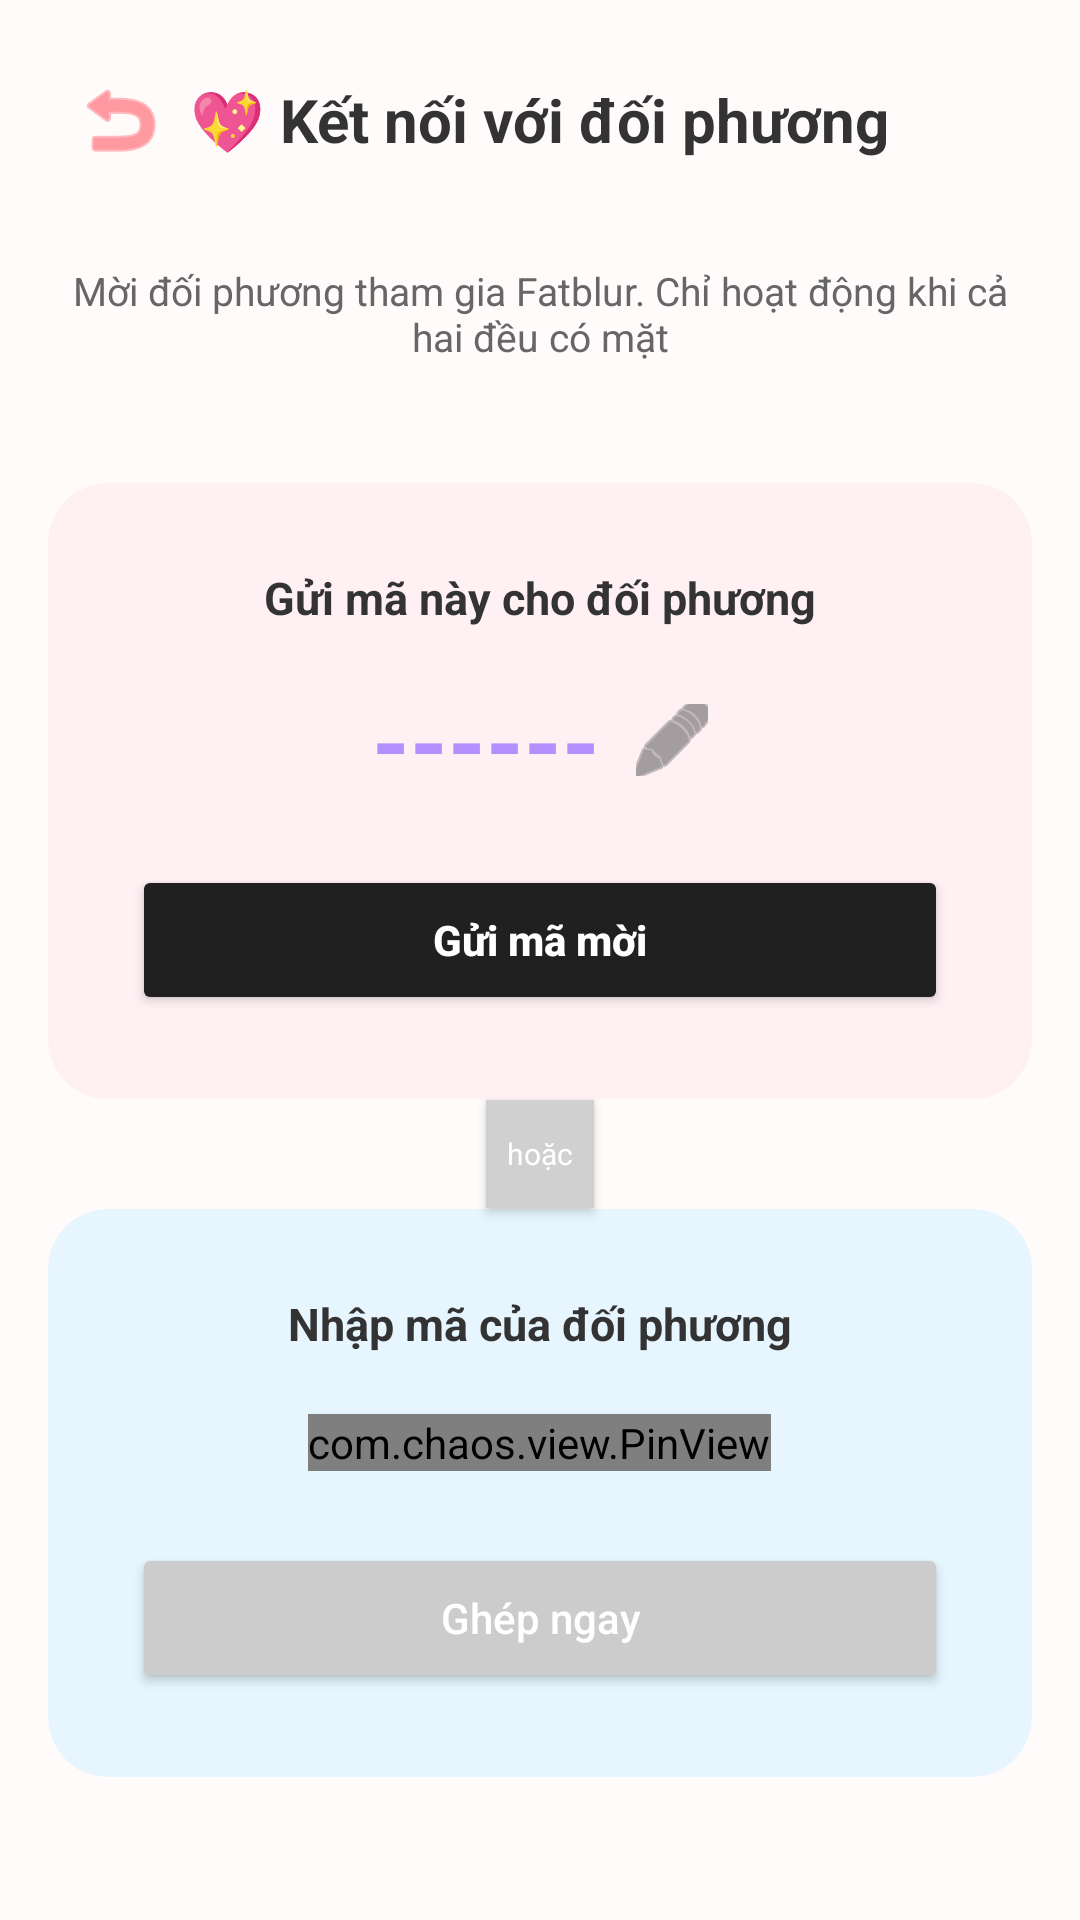

Named icons in this screenshot (1080×1920) and their bounding boxes, (x1, y1, x2, y2):
edit: (636, 704, 708, 776)
revert: (87, 90, 156, 152)
